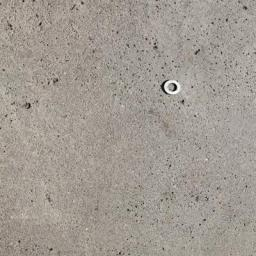FOD: (161, 75, 183, 100)
